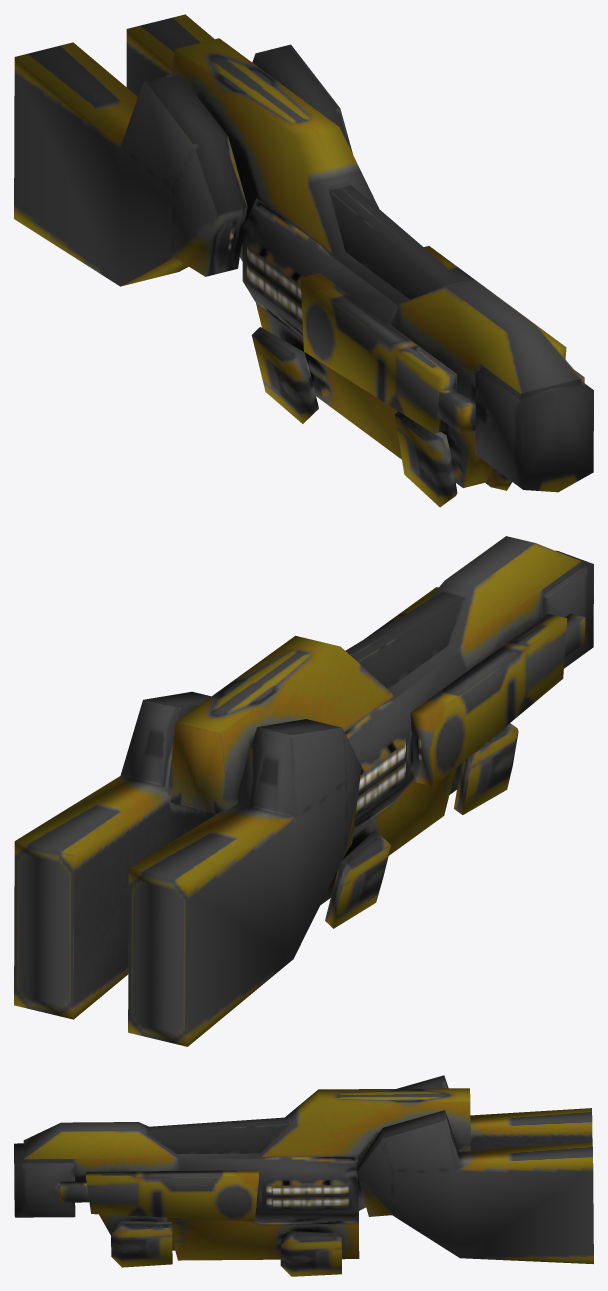
File: red_spaceship_03.fbx
3 views of the same model, one above another, from view 1: azimuth 30°, elevation 25°; view 2: azimuth 150°, elevation 25°; view 3: azimuth 270°, elevation 25° (orthographic). The views are drawn at different scales.
Visible parts, largest first — view 1: RSFrigateMod; view 2: RSFrigateMod; view 3: RSFrigateMod.
Boxes of the visible parts, x1,y1,x2,y2 form: RSFrigateMod: (14,14,593,507); RSFrigateMod: (14,536,593,1046); RSFrigateMod: (14,1075,593,1276).
Size of the model in its own units: 1366 by 6274 by 2031.
Materials: 1 (1 with a texture image).
